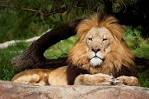lion: (14, 18, 142, 92)
